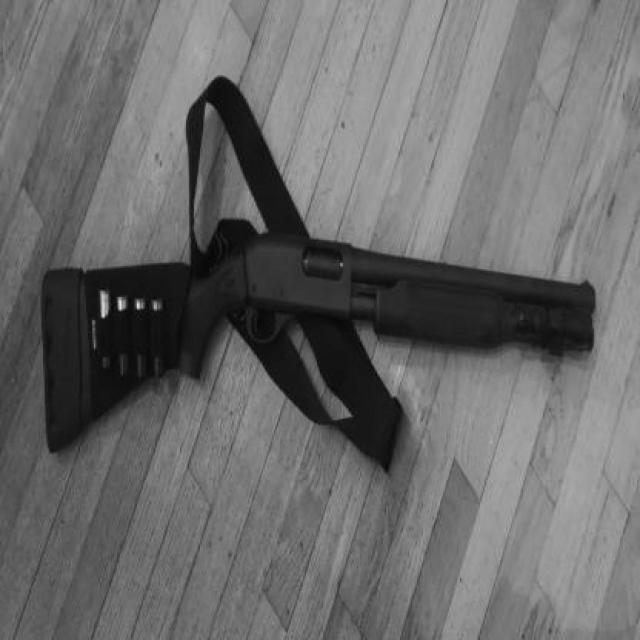weapon: (43, 218, 595, 456)
